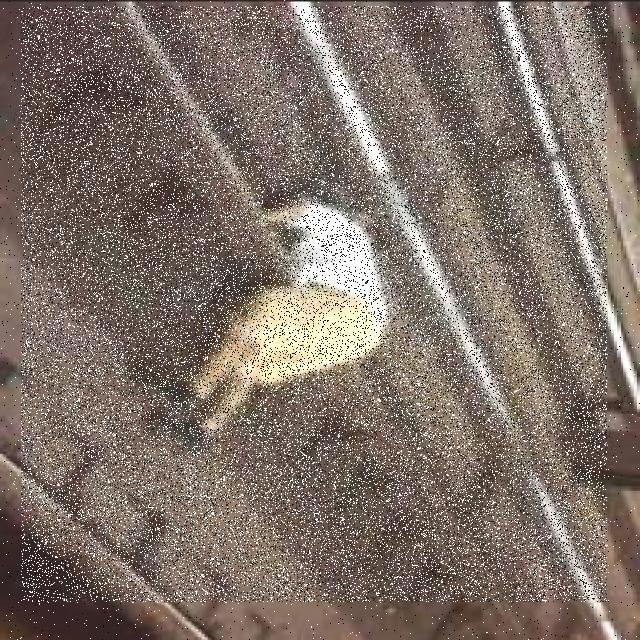rail: (103, 1, 639, 640), (486, 3, 640, 439)
